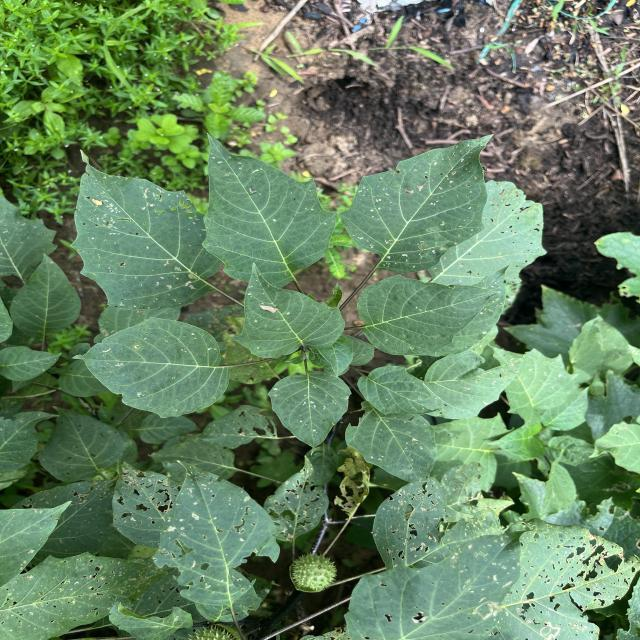Datura metal linn: (69, 146, 206, 312), (338, 132, 497, 275), (200, 132, 340, 288), (69, 314, 234, 420), (356, 273, 506, 357), (231, 262, 346, 360), (266, 369, 352, 457), (356, 365, 444, 417)
